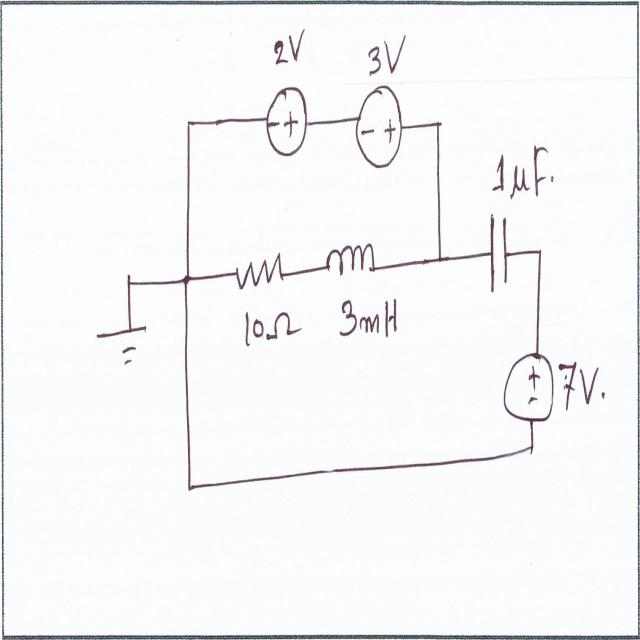capacitor: (486, 205, 510, 303)
ground: (91, 324, 154, 376)
inductor: (321, 232, 381, 288)
resistor: (232, 249, 284, 302)
voltage_source: (351, 76, 405, 175), (502, 342, 559, 432), (264, 82, 312, 166)
